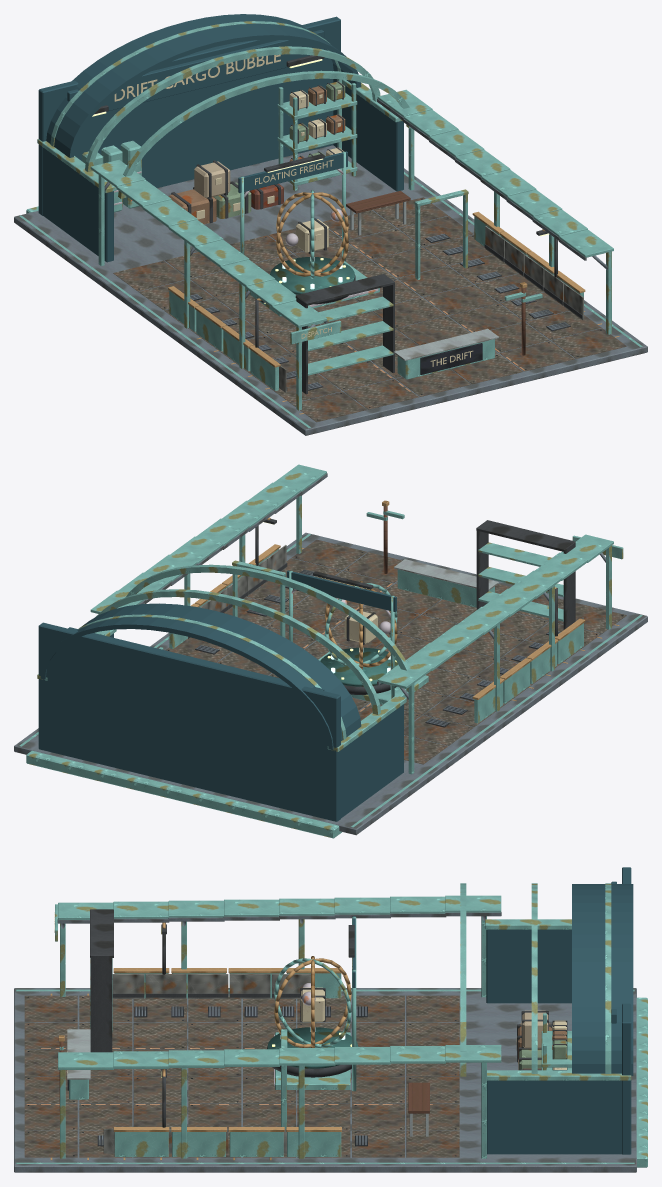
Rendered from jovexa-depot.glb.
The picture shows the model from 3 angles, top to bottom: view 1: azimuth 30°, elevation 25°; view 2: azimuth 150°, elevation 25°; view 3: azimuth 270°, elevation 25°; orthographic projection. The views are drawn at different scales.
Visible parts, largest first — view 1: jovexa-depot; view 2: jovexa-depot; view 3: jovexa-depot.
Part boxes in pixels (bbox=[...]): jovexa-depot: bbox=[14, 14, 647, 435]; jovexa-depot: bbox=[14, 464, 647, 838]; jovexa-depot: bbox=[14, 867, 647, 1172].
Size of the model in its own units: 16.9 by 7.81 by 25.34.
Materials: 22 (18 with a texture image).
